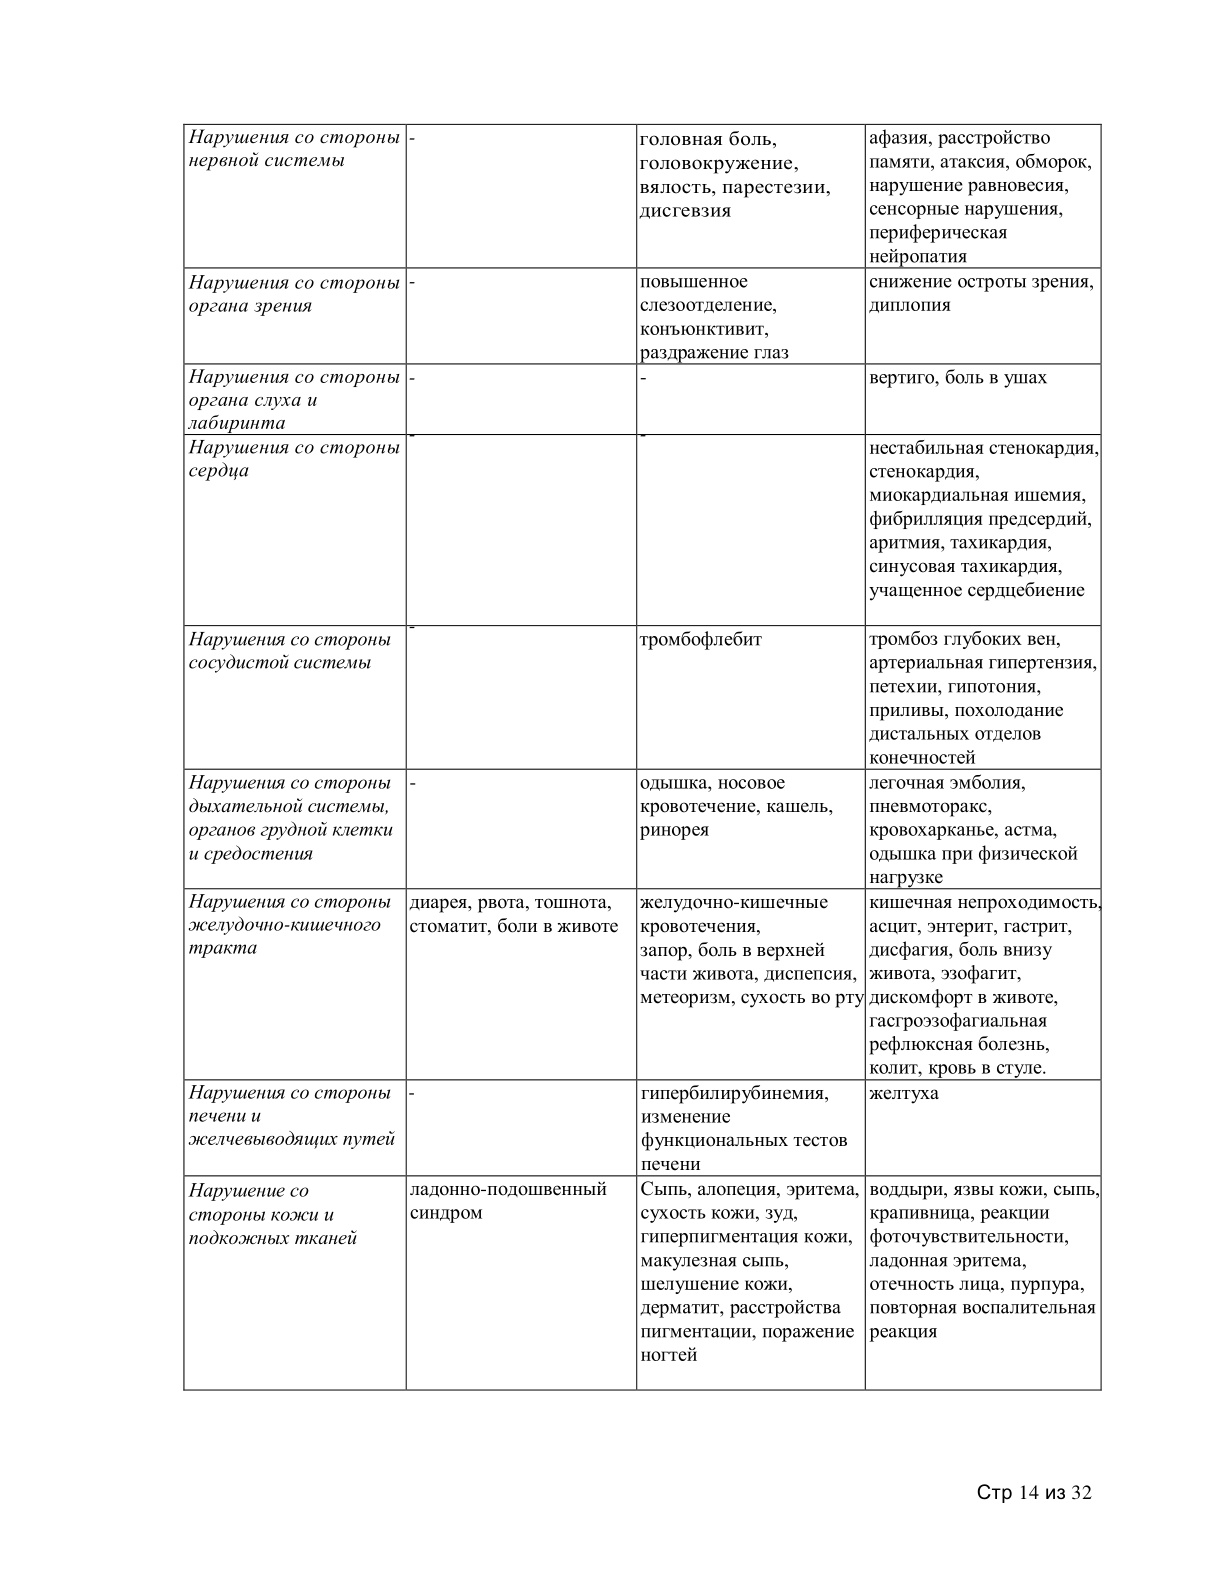full_lined: (183, 123, 1103, 1392)
